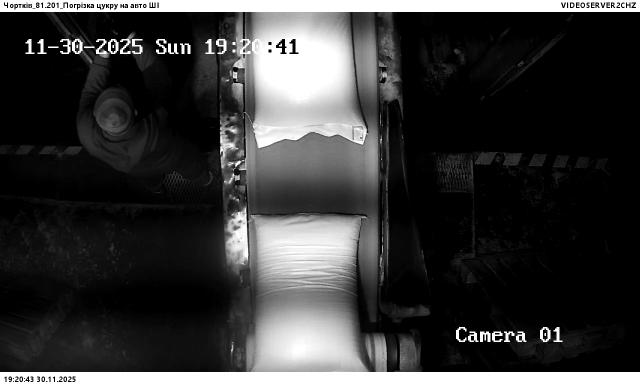bag: (253, 213, 377, 371), (254, 11, 368, 148)
